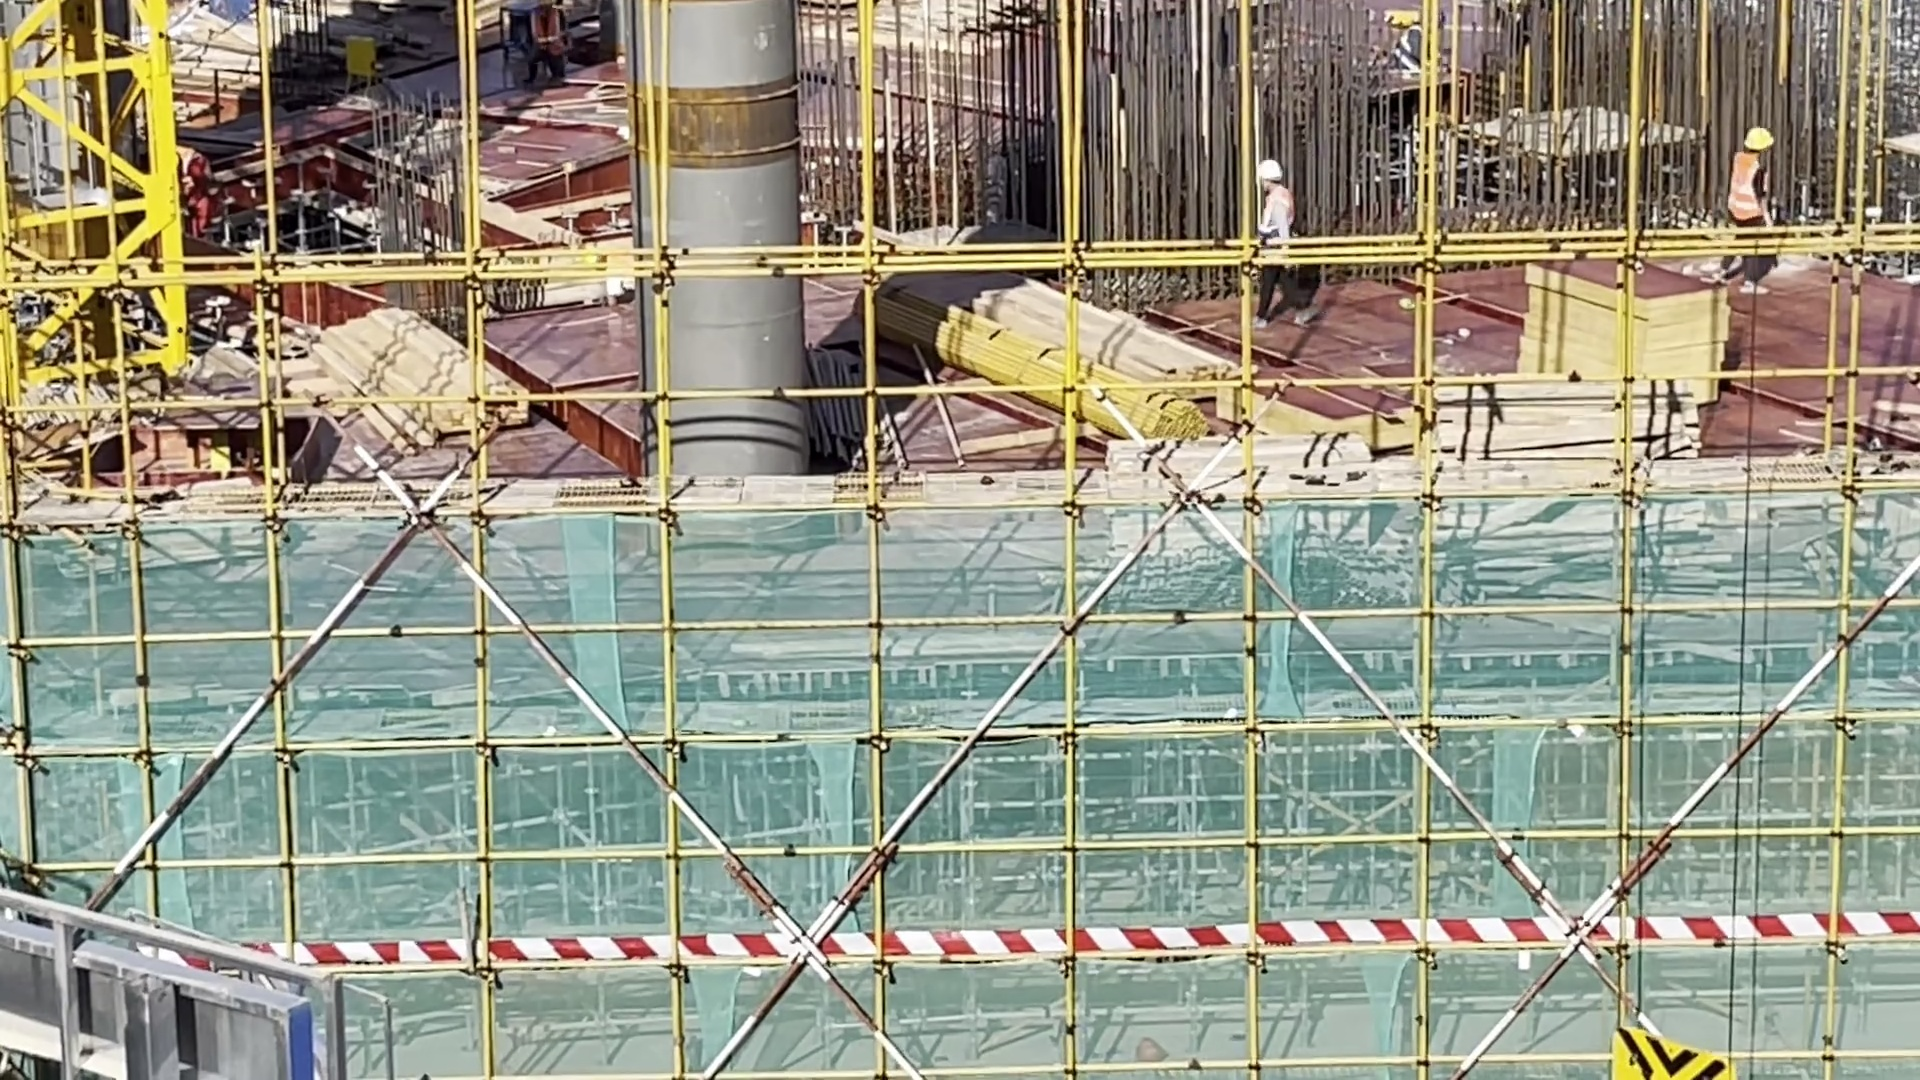helmet: (1251, 157, 1284, 174), (1744, 131, 1774, 147), (1436, 11, 1450, 31), (589, 257, 609, 271), (1512, 1, 1527, 13)
person: (1254, 135, 1311, 330), (1711, 135, 1772, 296), (176, 148, 237, 235), (1394, 1, 1464, 76), (1514, 1, 1585, 50), (526, 16, 567, 86), (596, 238, 636, 303)
vest: (1728, 159, 1776, 226), (1259, 191, 1313, 241), (1399, 29, 1429, 79), (529, 1, 558, 51), (184, 159, 214, 209), (1541, 1, 1574, 39), (621, 256, 643, 294)
